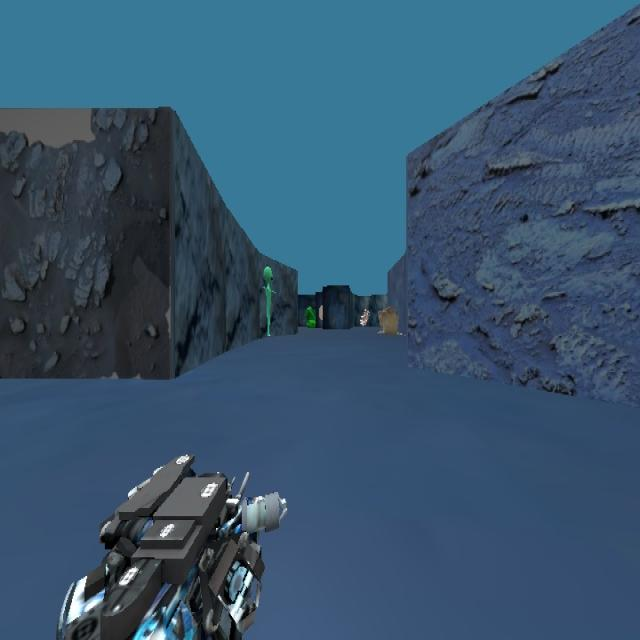Alien: (260, 264, 276, 336)
Ice: (377, 309, 412, 347)
